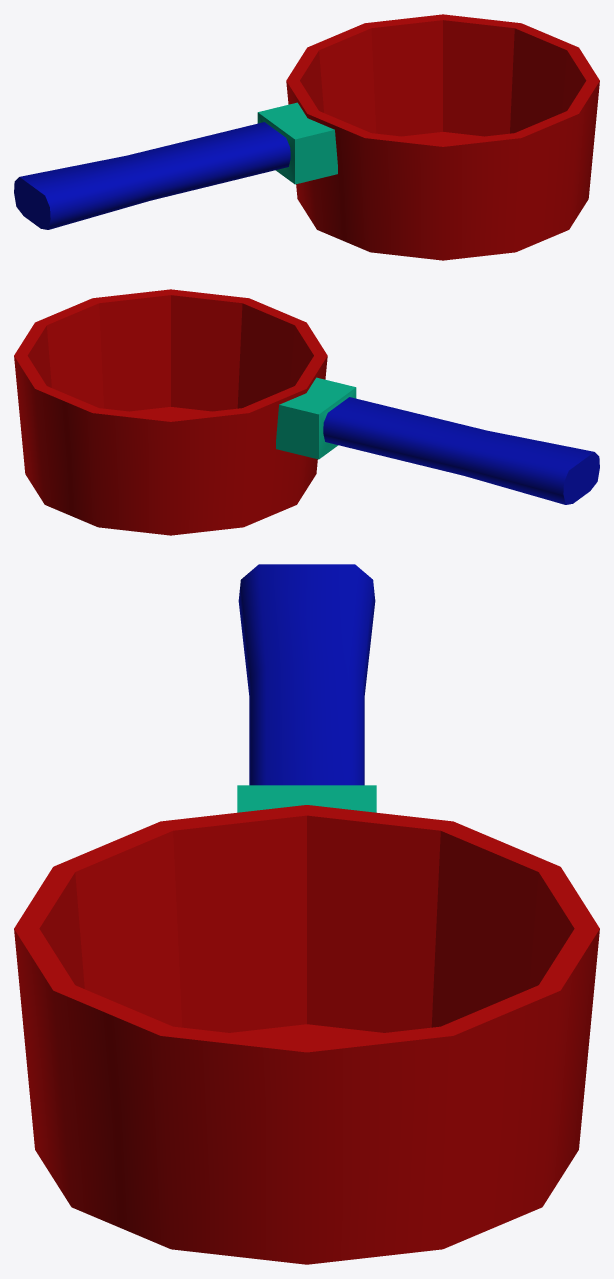
The model's file is Kasserole_version_textures.fbx.
The picture shows the model from 3 angles, top to bottom: view 1: azimuth 30°, elevation 25°; view 2: azimuth 150°, elevation 25°; view 3: azimuth 270°, elevation 25°; orthographic projection. The views are drawn at different scales.
Parts seen in each view (by area): view 1: Cylinder001; view 2: Cylinder001; view 3: Cylinder001.
Part boxes in pixels (x1=…): Cylinder001: x1=14, y1=14, x2=599, y2=260; Cylinder001: x1=14, y1=289, x2=599, y2=535; Cylinder001: x1=14, y1=564, x2=599, y2=1264.
Size of the model in its own units: 173 by 35.89 by 86.19.
